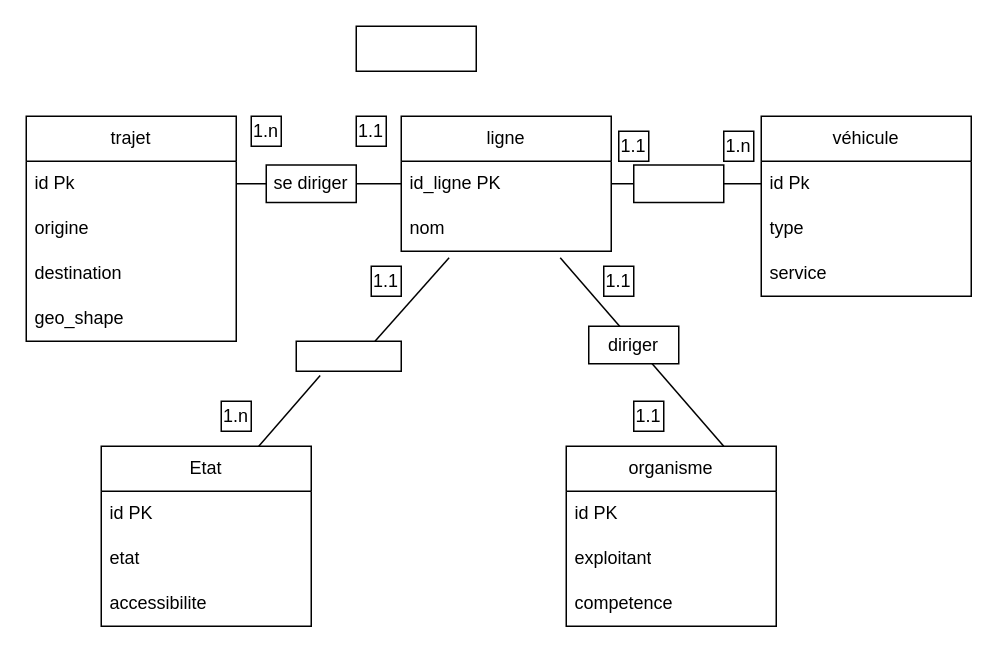
The diagram is 998 pixels wide and 653 high, and some of its shapes have lost their labels. The centre of each missing label's shape, as x and y in pixels:
conduire: (x=678, y=183)
fonctionner: (x=348, y=355)
MCD: (x=415, y=48)
